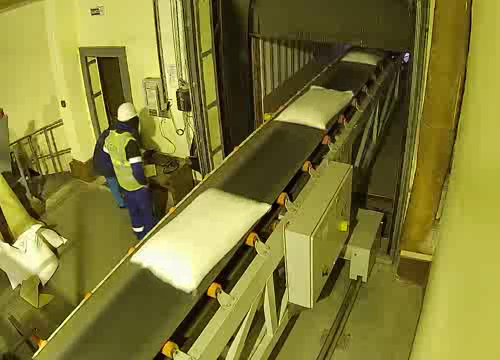bag: (123, 182, 284, 300), (270, 83, 364, 134), (336, 46, 399, 67)
